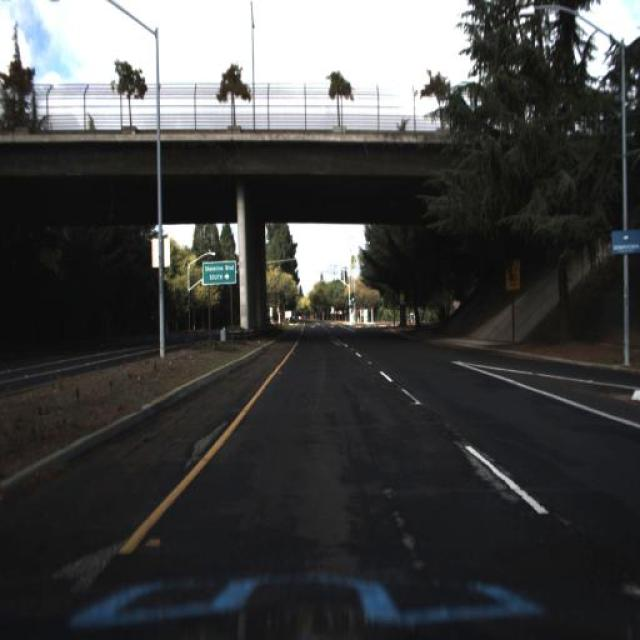trafficLight-GreenLeft: (351, 292, 355, 303), (321, 272, 323, 284)
